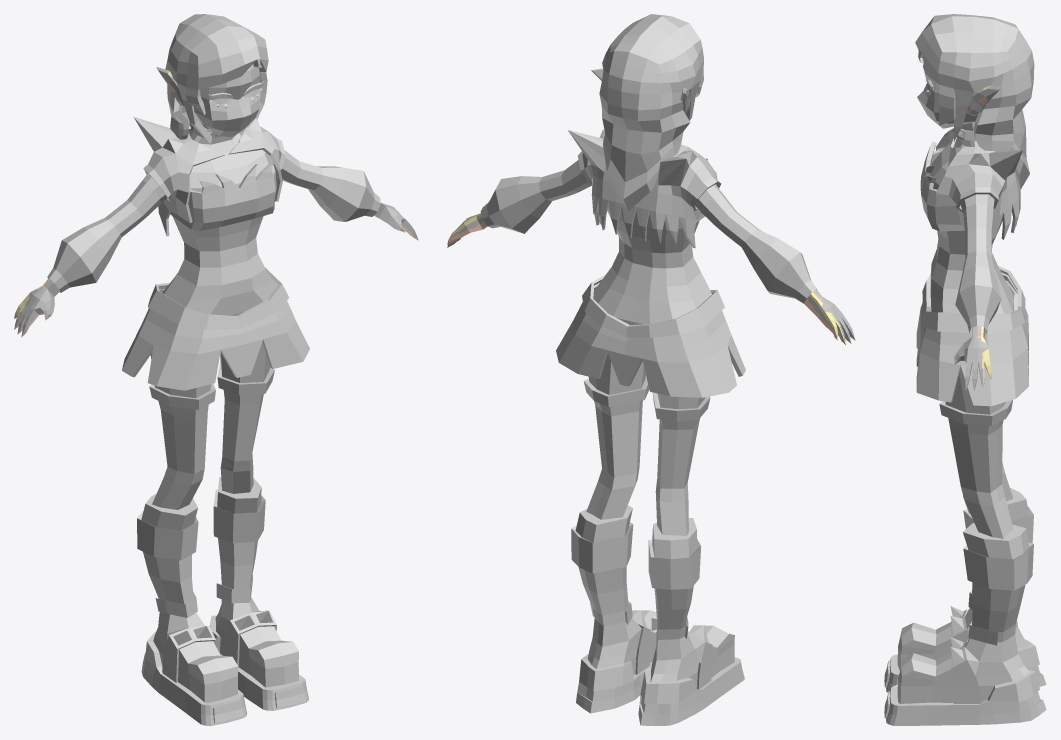
The model's file is Proto prota arabella.fbx.
3 renders of one model, left to right at view 1: azimuth 30°, elevation 25°; view 2: azimuth 150°, elevation 25°; view 3: azimuth 270°, elevation 25°, orthographic. The views are drawn at different scales.
Visible parts, largest first — view 1: cuerpo, Cube.007, cabello, capa, top, Cube.001, manos; view 2: cuerpo, cabello, Cube.007, capa, manos; view 3: cuerpo, cabello, Cube.007, capa, manos, top, Cube.001, Cube.008.
Part boxes in pixels (<box>): cuerpo: <box>47,122,380,725</box>; Cube.007: <box>122,267,309,390</box>; cabello: <box>165,14,268,143</box>; capa: <box>133,117,285,236</box>; top: <box>170,163,276,230</box>; Cube.001: <box>194,64,261,137</box>; manos: <box>14,202,418,337</box>; cuerpo: <box>480,160,816,725</box>; cabello: <box>599,14,703,211</box>; Cube.007: <box>556,274,745,397</box>; capa: <box>568,129,721,248</box>; manos: <box>447,213,855,344</box>; cuerpo: <box>884,122,1046,725</box>; cabello: <box>915,14,1034,189</box>; Cube.007: <box>916,266,1028,406</box>; capa: <box>936,128,1022,240</box>; manos: <box>954,326,991,390</box>; top: <box>920,141,964,231</box>; Cube.001: <box>917,64,977,128</box>; Cube.008: <box>966,86,1000,115</box>.
Bounding box in the file's own units: 114 × 181 × 39.04.
1 material, 1 textured.
